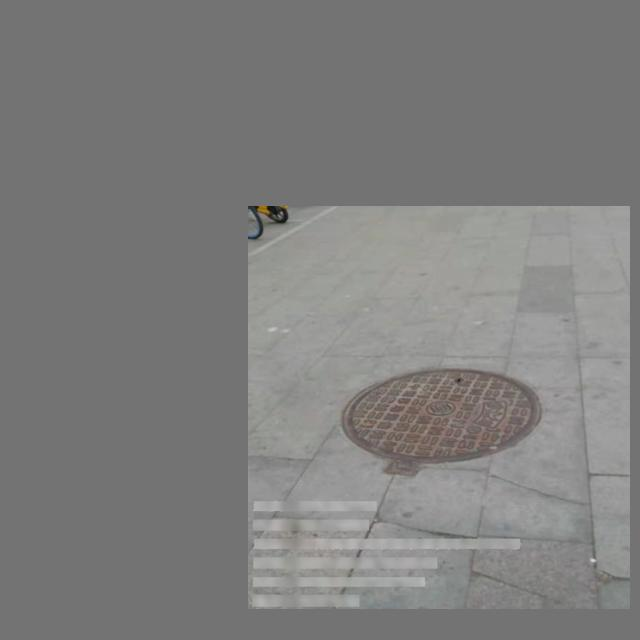good: (341, 366, 542, 478)
